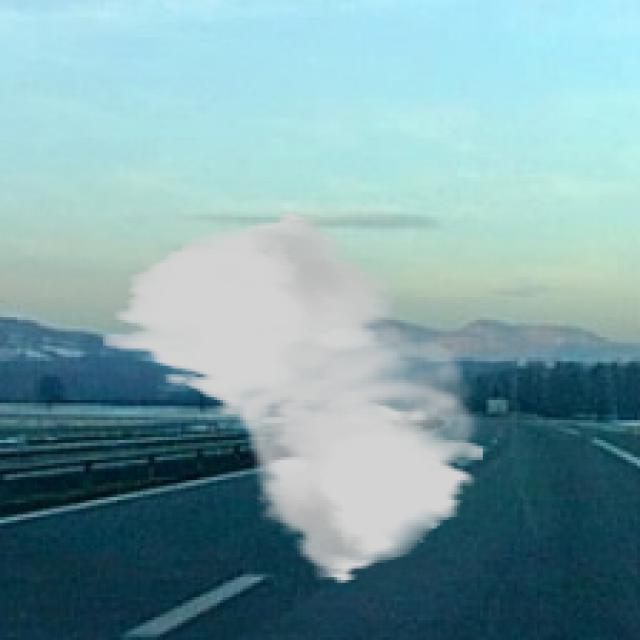Smoke: (103, 211, 486, 586)
